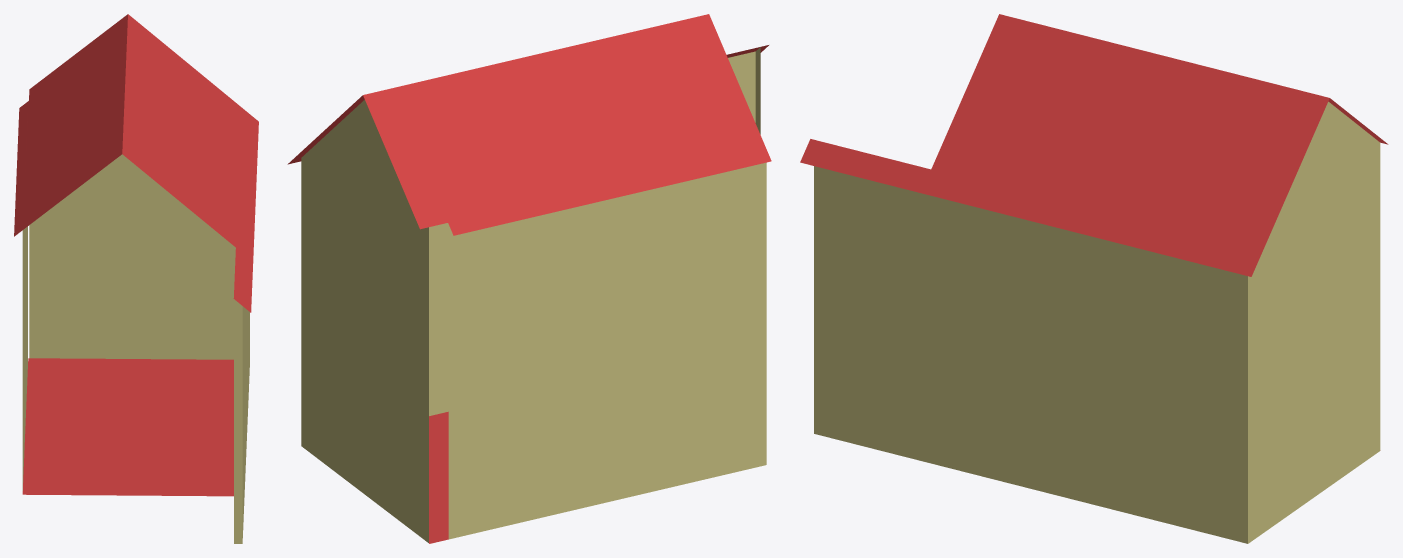
3 views of the same model, side by side, from view 1: azimuth 30°, elevation 25°; view 2: azimuth 150°, elevation 25°; view 3: azimuth 270°, elevation 25° (orthographic). The views are drawn at different scales.
Size of the model in its own units: 10.83 by 14.6 by 10.85.
